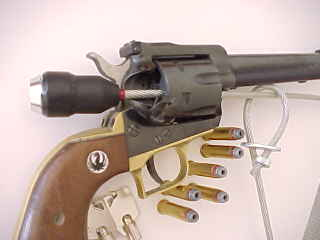pistol: (1, 49, 316, 234)
